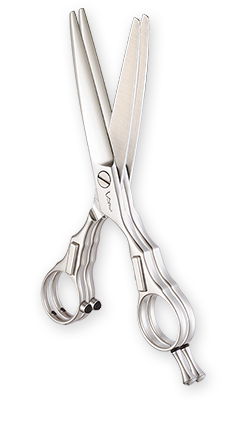scissors: (41, 5, 210, 390)
